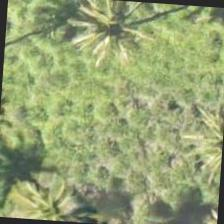Kelapa_Sawit: (54, 0, 150, 76), (0, 168, 93, 222), (173, 90, 223, 185)
